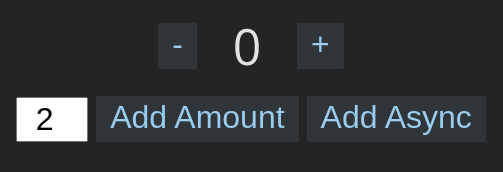
Test: Increment and decrement value › decrease value by 1
Click the button named "Decrement value" at (178, 46), box x1=158 y1=23 x2=197 y2=69
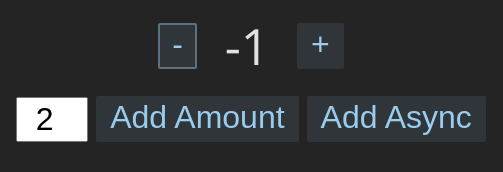
Result: the text named "Counter" reads "-1" at x1=225 y1=12 x2=269 y2=80
